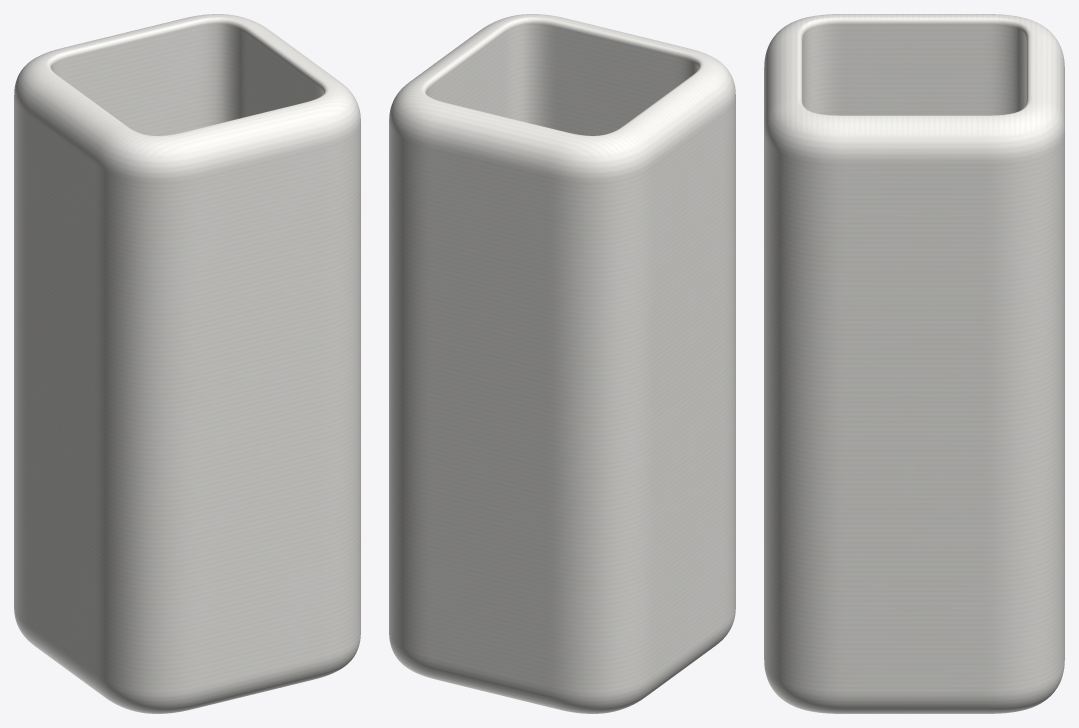
Rendered from incense-bottle.glb.
3 renders of one model, left to right at view 1: azimuth 30°, elevation 25°; view 2: azimuth 150°, elevation 25°; view 3: azimuth 270°, elevation 25°, orthographic. The views are drawn at different scales.
Size of the model in its own units: 0.055 by 0.12 by 0.055.
1 material, 1 textured.
